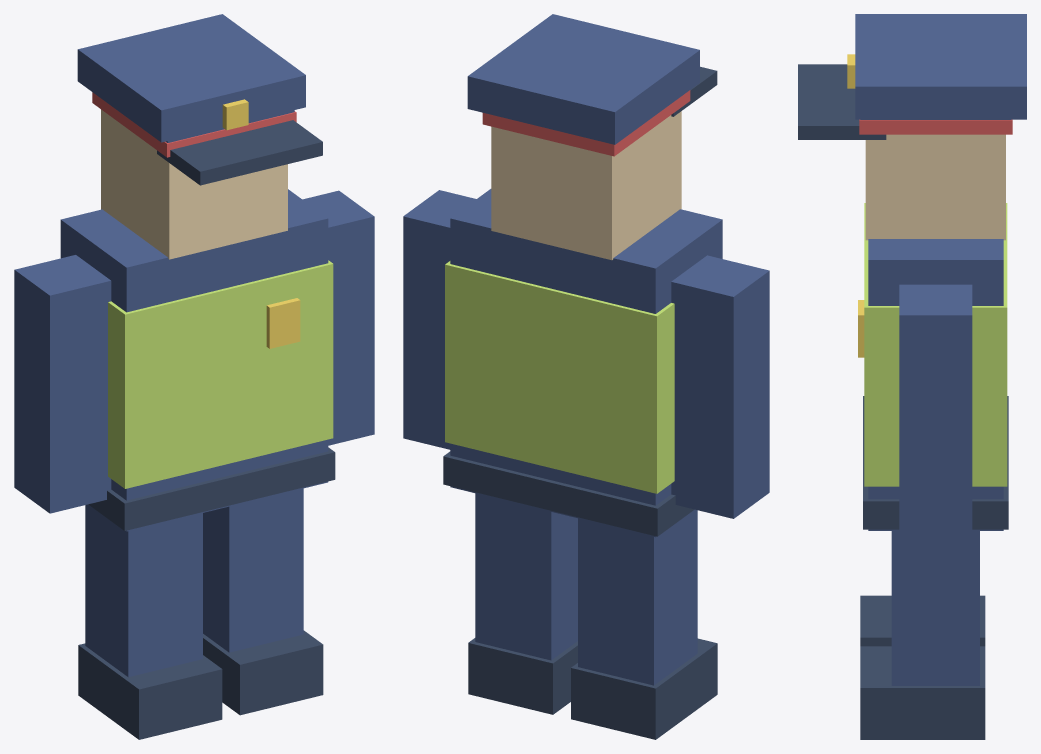
The model's file is police_officer.glb.
3 renders of one model, left to right at view 1: azimuth 30°, elevation 25°; view 2: azimuth 150°, elevation 25°; view 3: azimuth 270°, elevation 25°, orthographic. The views are drawn at different scales.
Visible parts, largest first — view 1: vest, rightArm_mesh, capCrown, torso, rightLeg_mesh, headMesh, leftLeg_mesh, leftArm_mesh, rightLeg_boot, belt, leftLeg_boot, capVisor (+3 smaller); view 2: vest, rightArm_mesh, capCrown, headMesh, torso, rightLeg_mesh, leftLeg_mesh, leftArm_mesh, rightLeg_boot, belt, leftLeg_boot, capBand (+1 smaller); view 3: leftArm_mesh, capCrown, headMesh, vest, leftLeg_mesh, torso, leftLeg_boot, capVisor, belt, capBand, rightLeg_boot, badge.
Boxes of the visible parts, x1,y1,x2,y2 form: vest: (108, 260, 333, 488); rightArm_mesh: (14, 255, 111, 513); capCrown: (77, 14, 305, 142); torso: (60, 189, 328, 531); rightLeg_mesh: (85, 504, 202, 677); headMesh: (101, 109, 287, 259); leftLeg_mesh: (203, 488, 303, 652); leftArm_mesh: (302, 190, 374, 445); rightLeg_boot: (78, 643, 222, 739); belt: (88, 447, 335, 530); leftLeg_boot: (203, 630, 323, 715); capVisor: (157, 120, 322, 185); vest: (445, 261, 674, 493); rightArm_mesh: (671, 255, 769, 518); capCrown: (467, 14, 699, 144); headMesh: (491, 111, 681, 260); torso: (450, 189, 722, 537); rightLeg_mesh: (578, 509, 697, 685); leftLeg_mesh: (475, 493, 577, 660); leftArm_mesh: (403, 190, 476, 449); rightLeg_boot: (571, 638, 717, 739); belt: (443, 451, 694, 536); leftLeg_boot: (468, 638, 577, 714); capBand: (482, 90, 690, 156); leftArm_mesh: (899, 284, 972, 539); capCrown: (855, 14, 1026, 119); headMesh: (865, 134, 1005, 240); vest: (864, 203, 1007, 486); leftLeg_mesh: (891, 531, 979, 685); torso: (868, 239, 1003, 530); leftLeg_boot: (860, 646, 985, 739); capVisor: (798, 64, 886, 139); belt: (863, 396, 1008, 529); capBand: (859, 119, 1012, 134); rightLeg_boot: (860, 595, 985, 646); badge: (858, 300, 864, 357).
Bounding box in the file's own units: 1.48 × 2.73 × 0.88.
